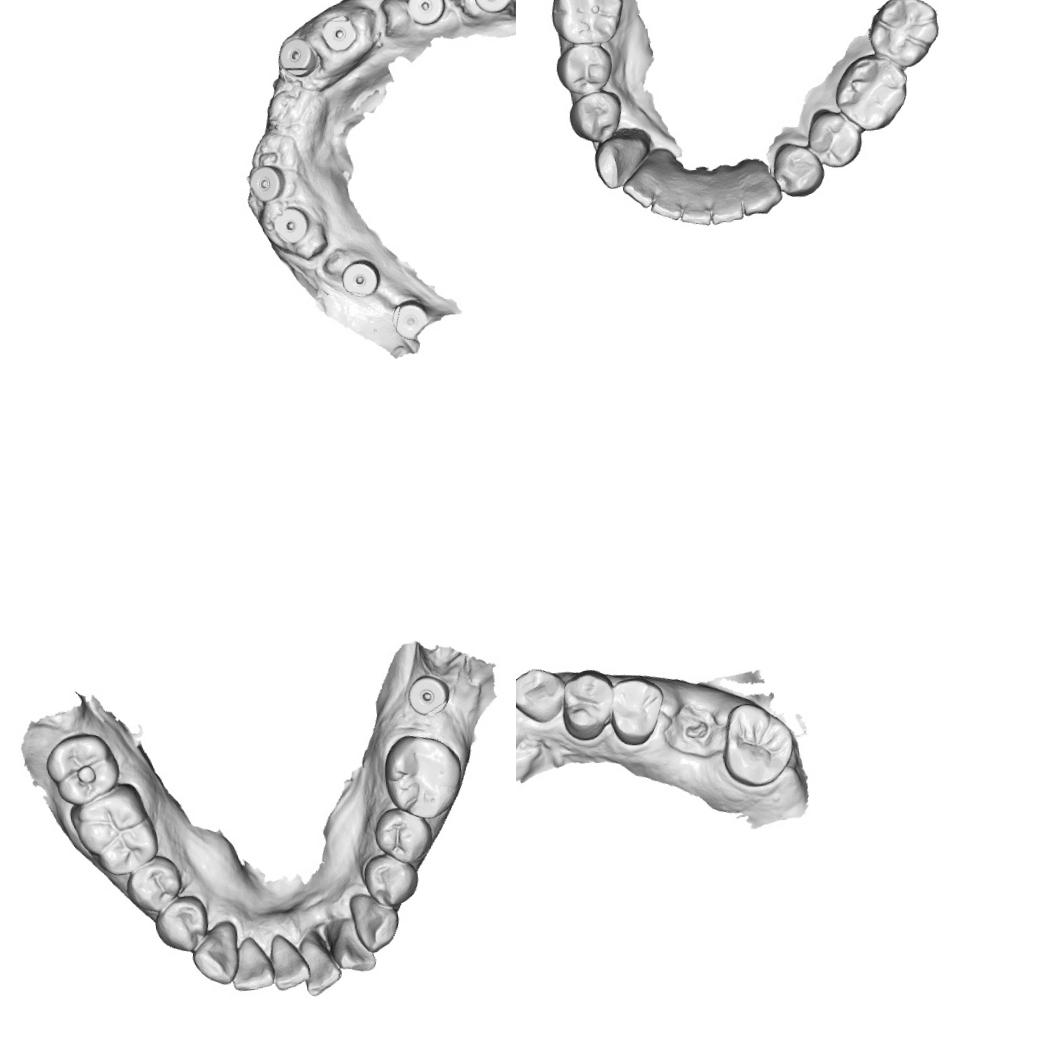canine: (187, 918, 246, 988), (346, 888, 405, 956), (590, 132, 652, 191), (516, 663, 570, 729), (737, 153, 784, 217)
implant: (403, 670, 454, 722), (276, 35, 321, 80), (338, 256, 383, 300), (389, 296, 432, 342), (318, 12, 360, 55), (271, 204, 312, 247), (247, 162, 287, 204), (403, 0, 447, 27), (470, 0, 514, 15)
incisor: (326, 916, 380, 977), (226, 932, 277, 996), (264, 928, 312, 994), (297, 932, 344, 999), (707, 162, 744, 225), (620, 166, 664, 210), (648, 186, 684, 223), (678, 196, 714, 229)
molar: (70, 778, 162, 881), (376, 728, 470, 824), (715, 695, 802, 792), (831, 50, 913, 134), (41, 728, 123, 808), (864, 0, 945, 72), (546, 0, 627, 48)
premolar: (557, 666, 619, 744), (608, 672, 668, 750), (368, 803, 436, 870), (118, 852, 187, 918), (149, 890, 213, 957), (359, 848, 424, 912), (803, 105, 865, 171), (553, 40, 615, 98), (566, 88, 626, 146), (770, 138, 826, 200)
